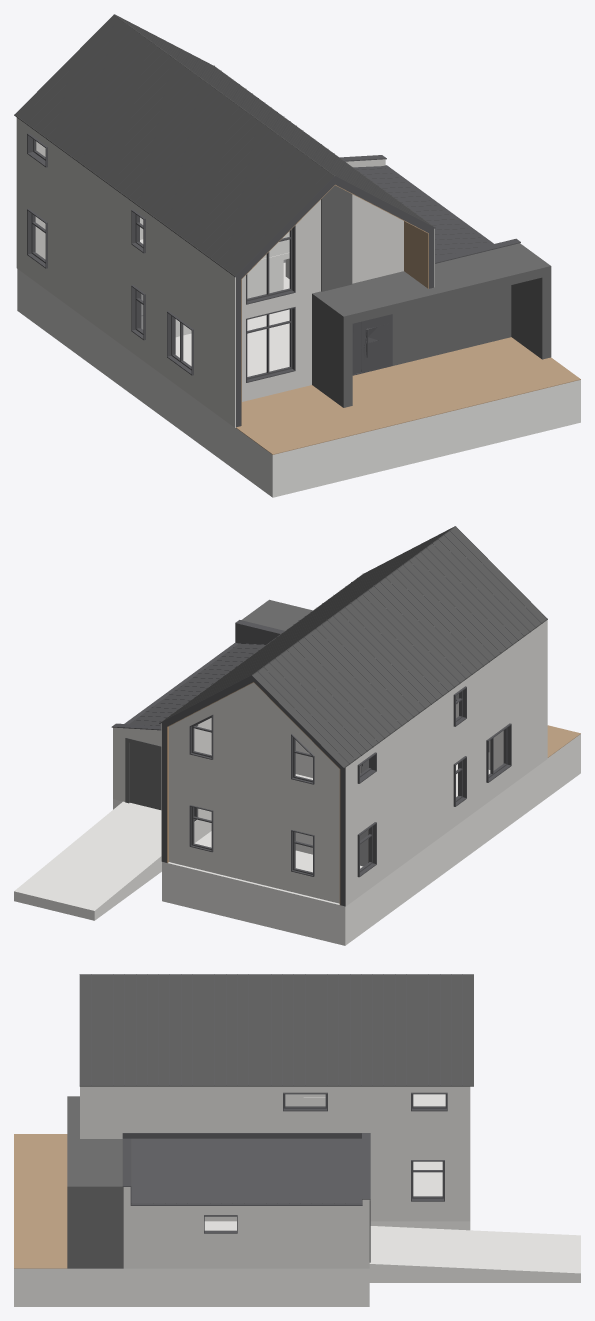
Rendered from barnhouse-1.glb.
The picture shows the model from 3 angles, top to bottom: view 1: azimuth 30°, elevation 25°; view 2: azimuth 150°, elevation 25°; view 3: azimuth 270°, elevation 25°; orthographic projection. The views are drawn at different scales.
Parts seen in each view (by area): view 1: Metal_Sandblasted_Black_200cm_BLACK_EDITED, Concrete_White_02_100cm, white, Metal_Sandblasted_Black_200cm, Aluminium_Black_Anodized_15cm, Wood_Planks_Pecan_33-81_150cm; view 2: Concrete_White_02_100cm, Metal_Sandblasted_Black_200cm_BLACK_EDITED, white, Aluminium_Black_Anodized_15cm, Metal_Sandblasted_Black_200cm, Wood_Planks_Pecan_33-81_150cm; view 3: Metal_Sandblasted_Black_200cm_BLACK_EDITED, Concrete_White_02_100cm, white, Aluminium_Black_Anodized_15cm, Metal_Sandblasted_Black_200cm, Wood_Planks_Pecan_33-81_150cm.
Boxes of the visible parts, x1,y1,x2,y2 form: Metal_Sandblasted_Black_200cm_BLACK_EDITED: (14, 14, 433, 276); Concrete_White_02_100cm: (16, 117, 434, 427); white: (17, 216, 580, 497); Metal_Sandblasted_Black_200cm: (312, 185, 551, 407); Aluminium_Black_Anodized_15cm: (14, 14, 520, 427); Wood_Planks_Pecan_33-81_150cm: (236, 184, 580, 454); Concrete_White_02_100cm: (113, 620, 547, 906); Metal_Sandblasted_Black_200cm_BLACK_EDITED: (160, 526, 547, 768); white: (14, 702, 580, 945); Aluminium_Black_Anodized_15cm: (111, 526, 547, 906); Metal_Sandblasted_Black_200cm: (125, 599, 458, 809); Wood_Planks_Pecan_33-81_150cm: (167, 682, 580, 904); Metal_Sandblasted_Black_200cm_BLACK_EDITED: (80, 974, 473, 1086); Concrete_White_02_100cm: (80, 1086, 470, 1268); white: (14, 1094, 580, 1306); Aluminium_Black_Anodized_15cm: (79, 974, 462, 1233); Metal_Sandblasted_Black_200cm: (67, 1096, 370, 1268); Wood_Planks_Pecan_33-81_150cm: (14, 1134, 67, 1268).
Size of the model in its own units: 11.44 by 9.47 by 20.14.
